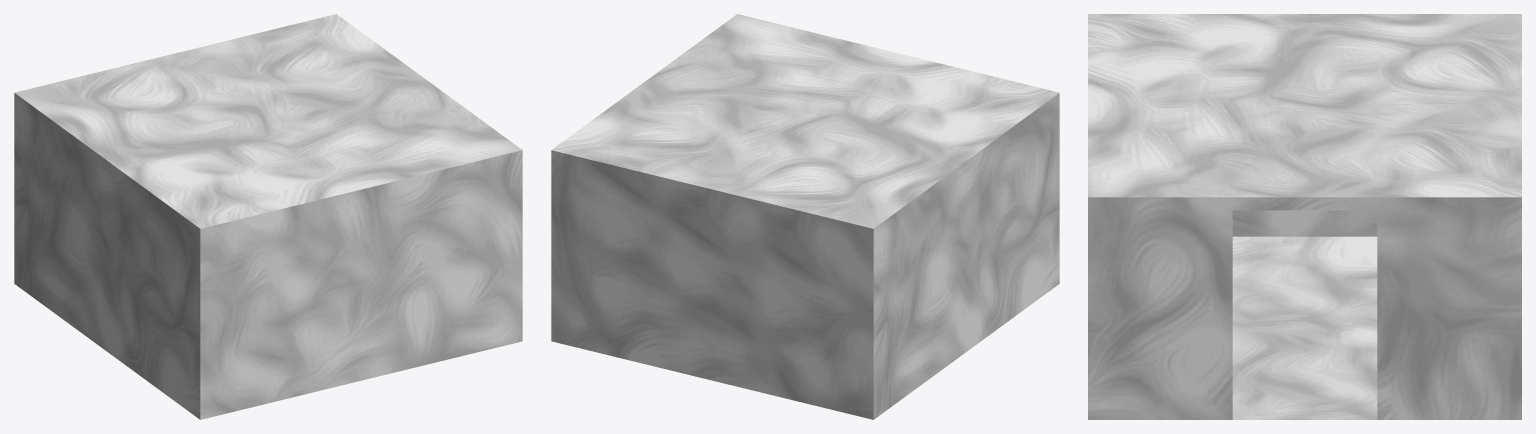
File: Stage7.obj
3 views of the same model, side by side, from view 1: azimuth 30°, elevation 25°; view 2: azimuth 150°, elevation 25°; view 3: azimuth 270°, elevation 25° (orthographic). The views are drawn at different scales.
Parts seen in each view (by area): view 1: Stage7; view 2: Stage7; view 3: Stage7.
Boxes of the visible parts, <box> form: Stage7: <box>14,14,522,419</box>; Stage7: <box>551,14,1059,419</box>; Stage7: <box>1088,14,1521,419</box>.
Size of the model in its own units: 7.5 by 4.25 by 7.5.
Materials: 1 (1 with a texture image).
